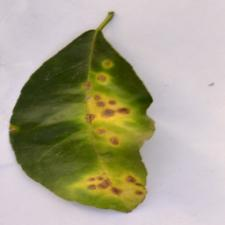Canker: (68, 38, 150, 217)
